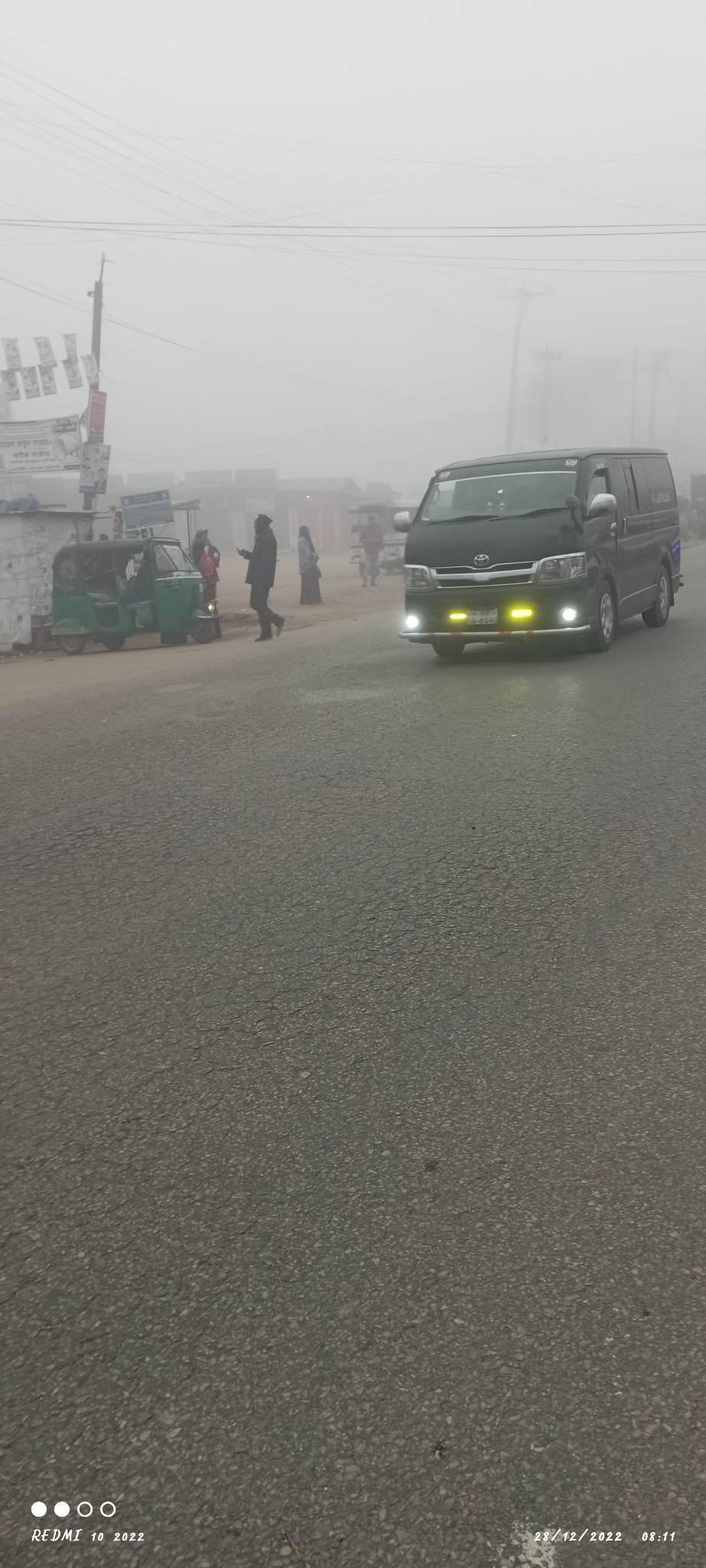Car: (374, 397, 693, 714)
